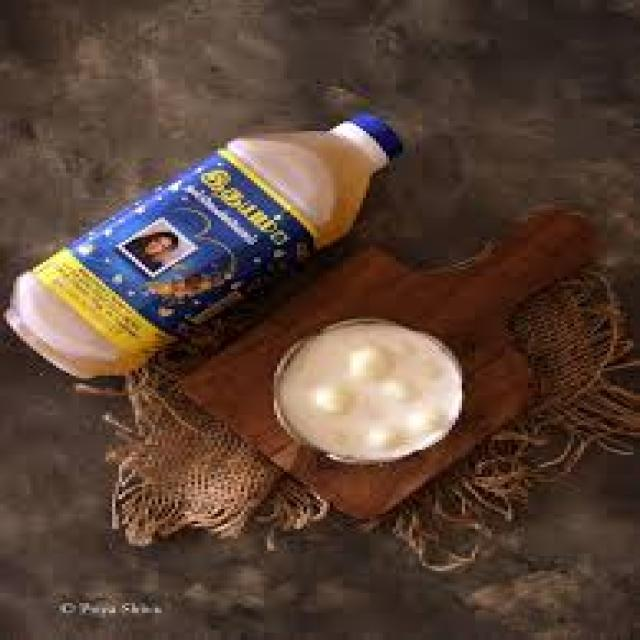paal kolukattai: (279, 315, 464, 487)
